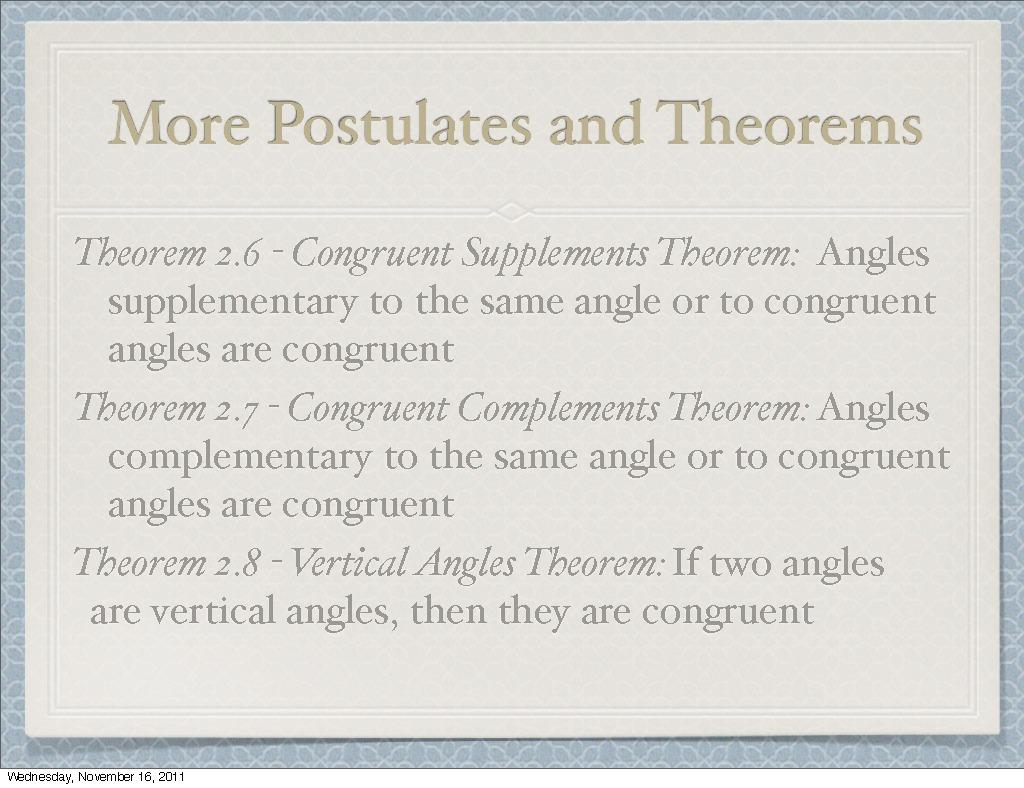paragraph: (55, 204, 965, 675)
title: (105, 75, 926, 166)
